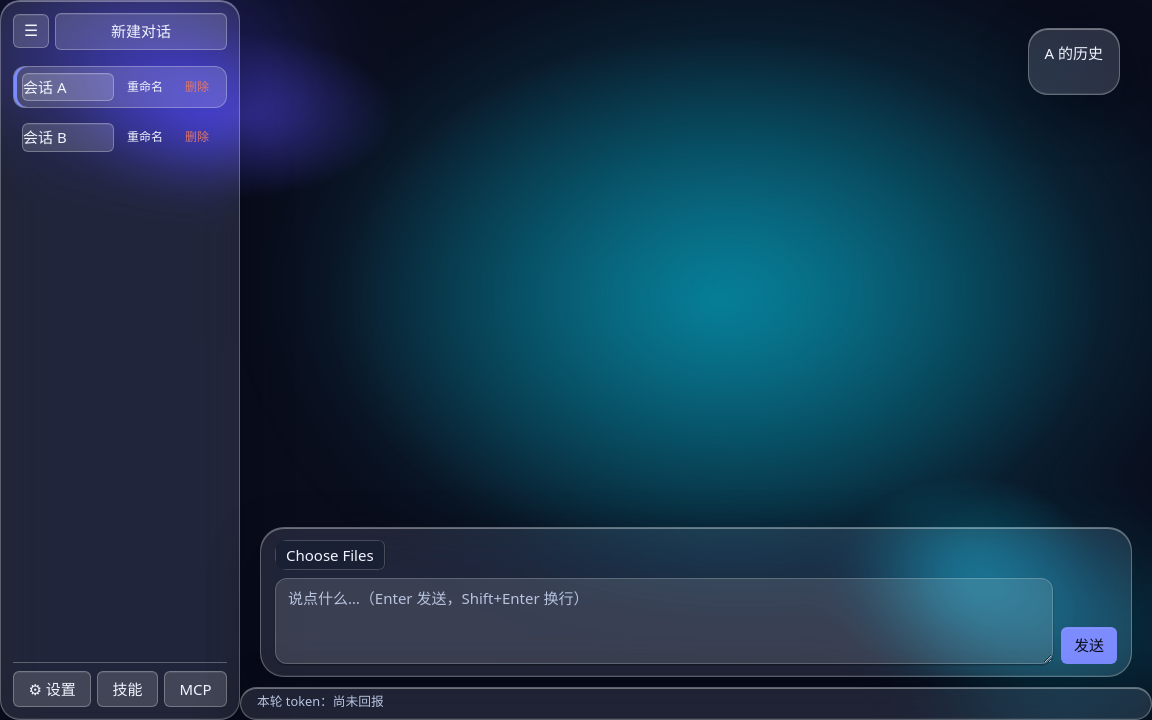
Test case: App › interrupts the running turn before replaying the session it switches to
The image size is (1152, 720).
Click the button "会话 B". click: (68, 137)
box: x1=22 y1=123 x2=114 y2=152
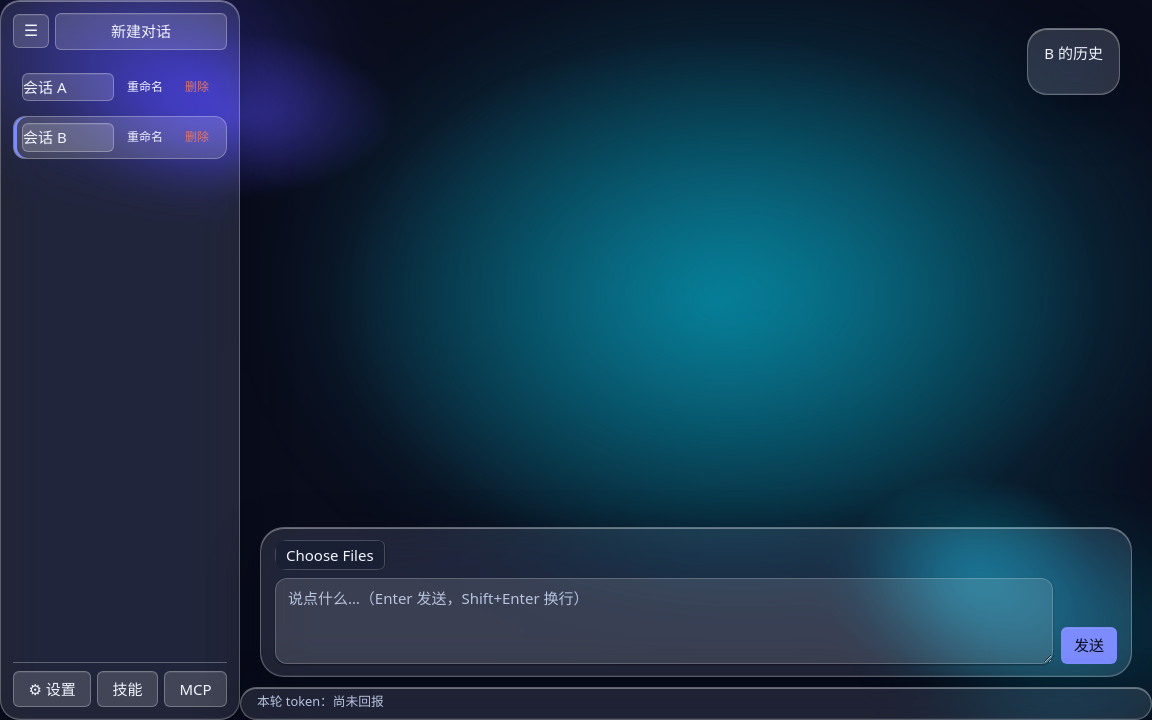
Result: the text "B 的历史" is shown at x1=1044 y1=41 x2=1103 y2=66
Result: the text "A 的历史" is gone
